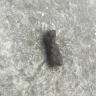Dog: (43, 30, 63, 67)
